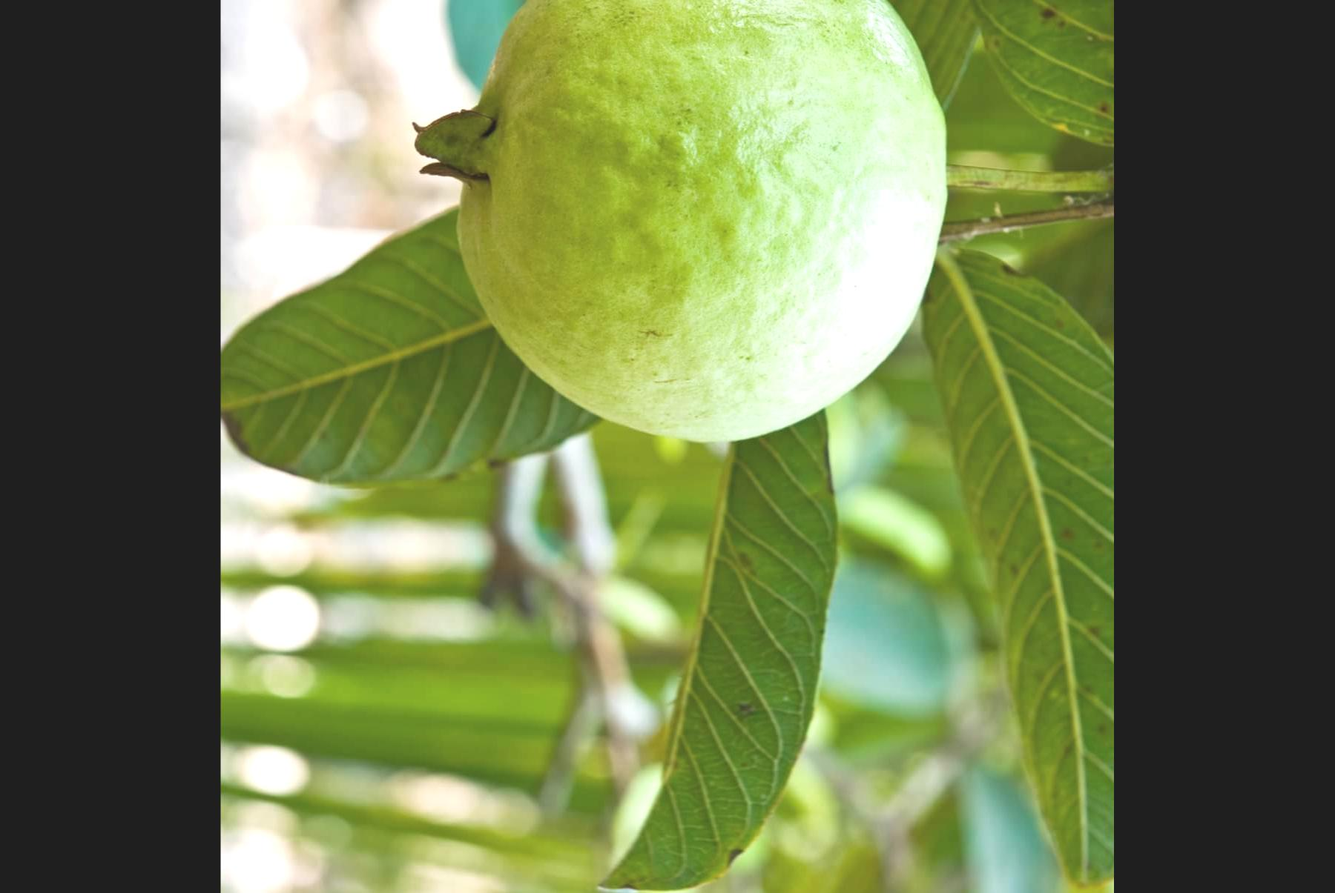oi: (433, 0, 1020, 445)
